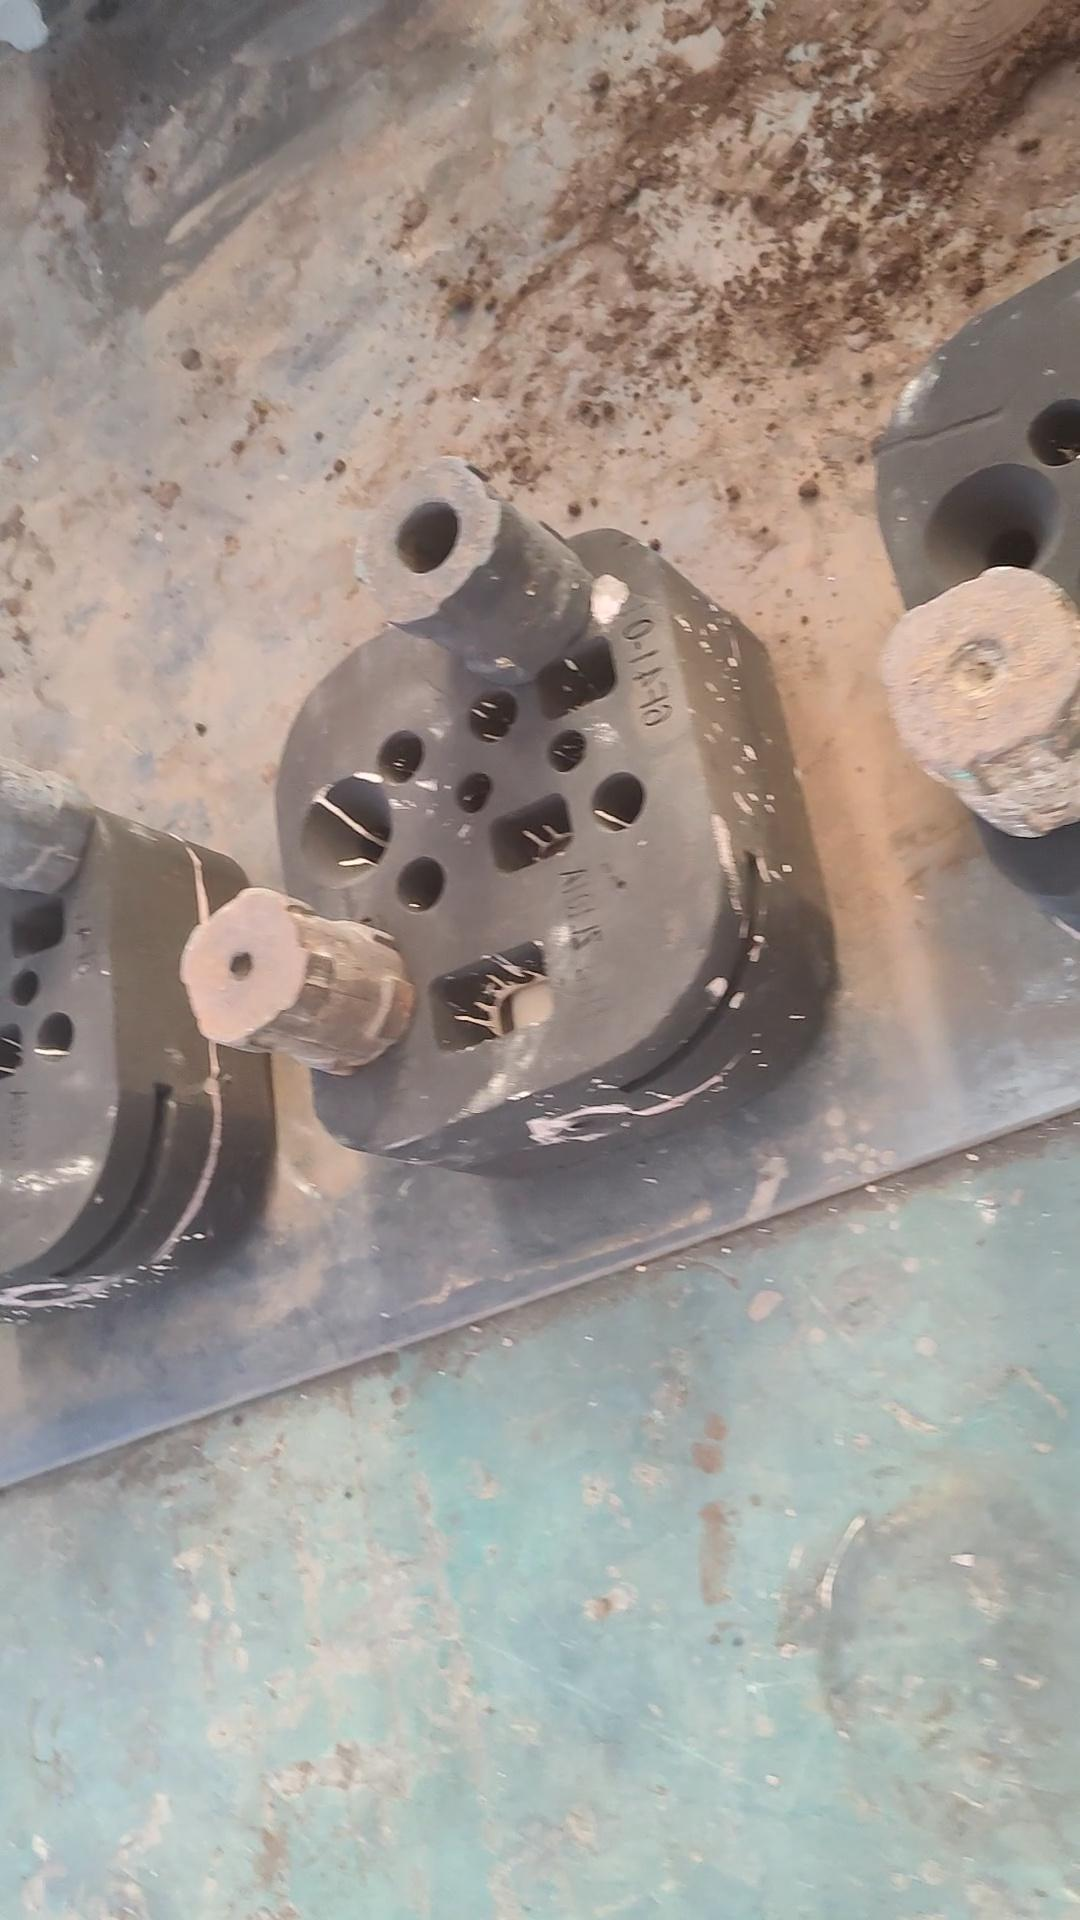pouring hole: (920, 463, 1065, 589), (299, 777, 390, 884)
